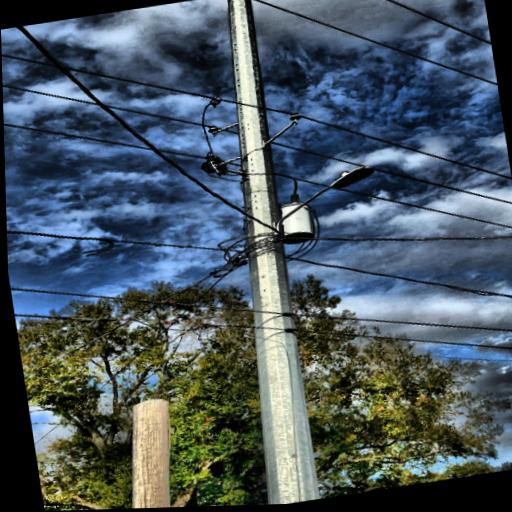pole: (170, 0, 344, 507)
street light: (263, 160, 385, 241)
transformer: (271, 198, 318, 248)
